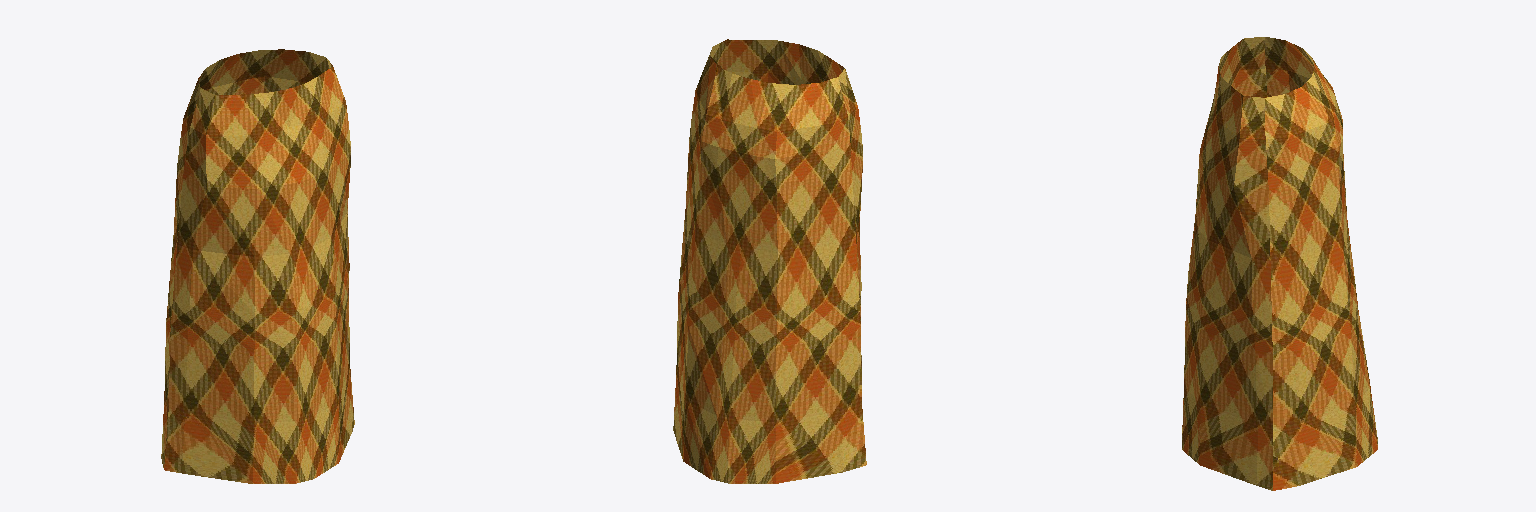
3 renders of one model, left to right at view 1: azimuth 30°, elevation 25°; view 2: azimuth 150°, elevation 25°; view 3: azimuth 270°, elevation 25°, orthographic.
Visible parts, largest first — view 1: g1_avatar_skirt.002; view 2: g1_avatar_skirt.002; view 3: g1_avatar_skirt.002.
Boxes of the visible parts, box(x1,y1,x2,y2) form: g1_avatar_skirt.002: box(161, 49, 354, 483); g1_avatar_skirt.002: box(673, 39, 866, 483); g1_avatar_skirt.002: box(1182, 37, 1377, 490).
Size of the model in its own units: 0.3366 by 0.6394 by 0.2998.
Materials: 1 (1 with a texture image).